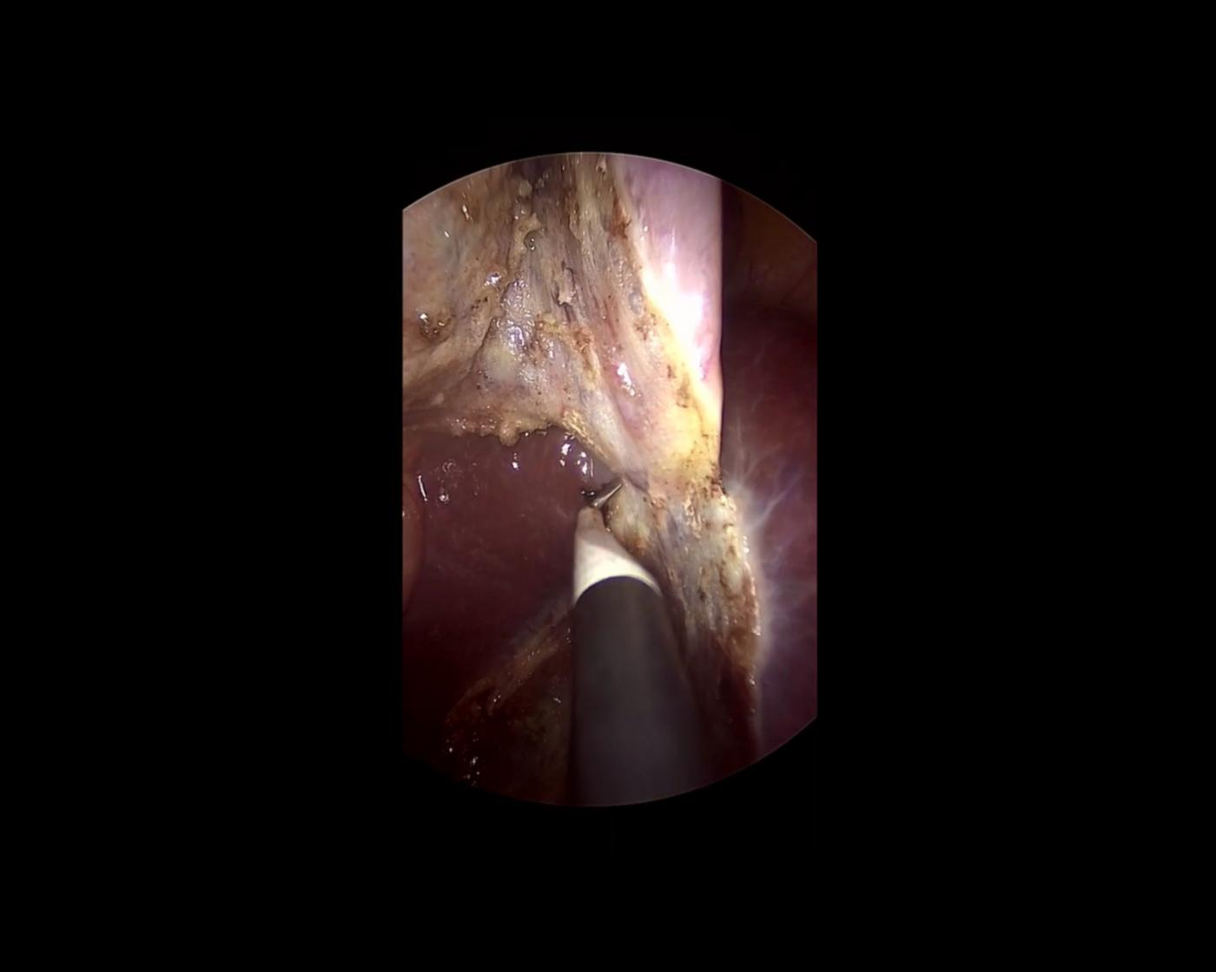Cautery: (497, 474, 717, 821)
Gallbladder: (400, 153, 719, 483)
Liver: (297, 379, 623, 786), (722, 303, 814, 755)
